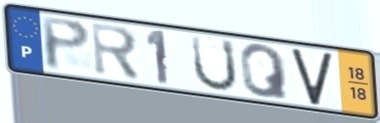1: (145, 28, 172, 87)
P: (38, 14, 93, 73)
Q: (238, 43, 292, 102)
R: (89, 20, 143, 83)
U: (189, 33, 240, 93)
V: (289, 48, 335, 108)
